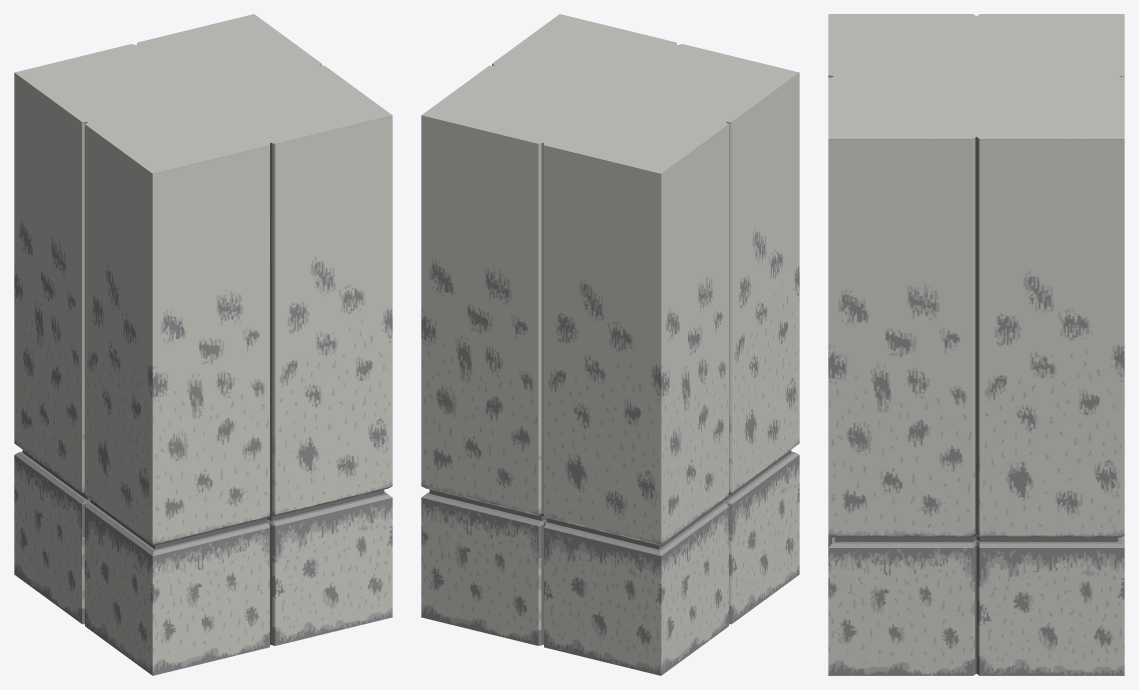
File: full.fbx
3 views of the same model, side by side, from view 1: azimuth 30°, elevation 25°; view 2: azimuth 150°, elevation 25°; view 3: azimuth 270°, elevation 25° (orthographic). The views are drawn at different scales.
Visible parts, largest first — view 1: full; view 2: full; view 3: full.
Part boxes in pixels (left/top/right/bottom): full: left=14, top=14, right=392, bottom=675; full: left=421, top=14, right=799, bottom=675; full: left=828, top=14, right=1124, bottom=675.
Size of the model in its own units: 1100 by 2200 by 1100.
